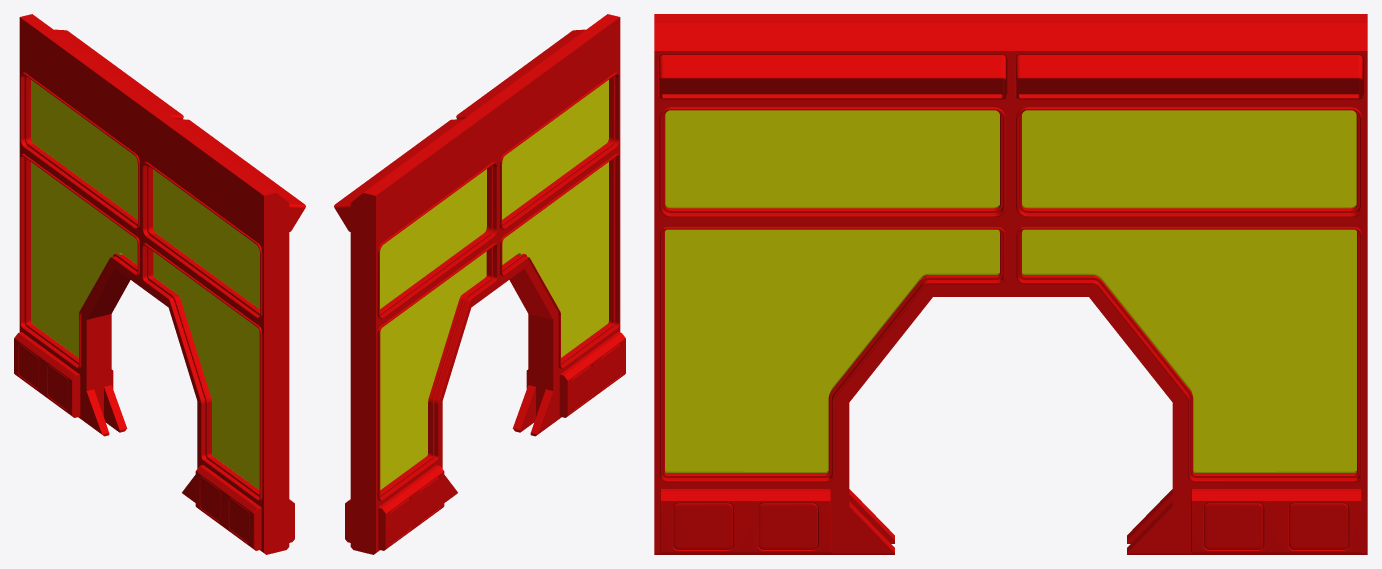
File: Wall_11.fbx
The picture shows the model from 3 angles, left to right: view 1: azimuth 30°, elevation 25°; view 2: azimuth 150°, elevation 25°; view 3: azimuth 270°, elevation 25°; orthographic projection. The views are drawn at different scales.
Parts seen in each view (by area): view 1: L2:polySurface1902; view 2: L2:polySurface1902; view 3: L2:polySurface1902.
Boxes of the visible parts, left/top/right/bottom form: L2:polySurface1902: left=14, top=14, right=305, bottom=554; L2:polySurface1902: left=334, top=14, right=625, bottom=554; L2:polySurface1902: left=654, top=14, right=1367, bottom=554.
Bounding box in the file's own units: 115 × 751 × 926.
